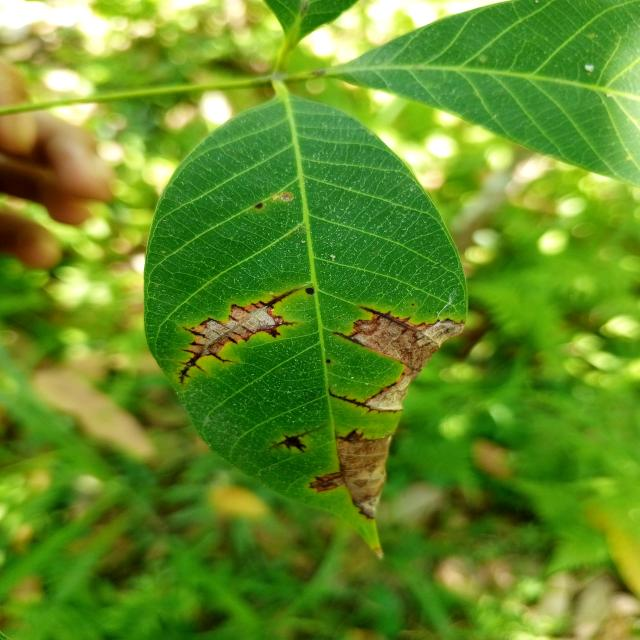Colletotrichum: (305, 287, 314, 295), (255, 203, 263, 209), (325, 359, 331, 363)
Corynespora: (176, 287, 298, 385), (266, 426, 324, 454), (361, 307, 415, 332), (326, 390, 374, 413), (332, 331, 366, 348)
Leaf-Blight: (355, 314, 465, 410), (310, 435, 396, 517)
